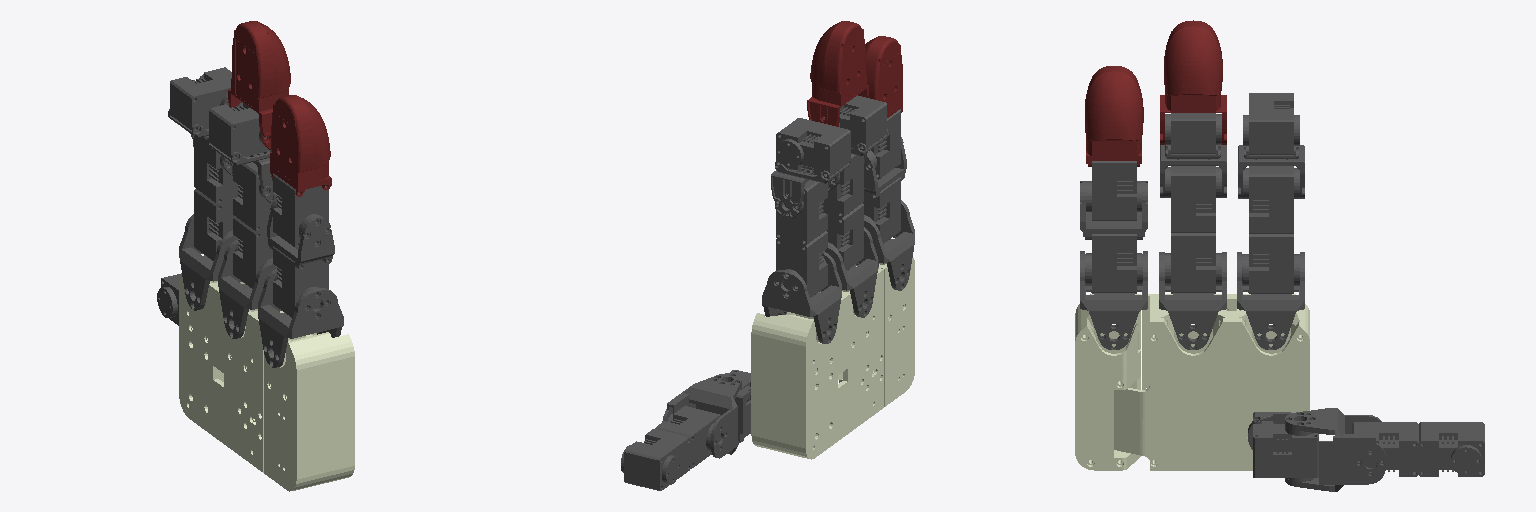
robot.urdf — gx4m:
<?xml version="1.0" encoding="utf-8"?>
<!-- This URDF was automatically created by SolidWorks to URDF Exporter! Originally created by Stephen Brawner (brawner@gmail.com) 
     Commit Version: 1.6.0-4-g7f85cfe  Build Version: 1.6.7995.38578
     For more information, please see http://wiki.ros.org/sw_urdf_exporter -->
<robot
  name="gx4m">
  <link
    name="base_link">
    <inertial>
      <origin
        xyz="-0.00153440405335238 0.0204382468703427 0.0367951456117559"
        rpy="0 0 0" />
      <mass
        value="0.0818018074556594" />
      <inertia
        ixx="0.000114084207970672"
        ixy="-2.10341508190003E-06"
        ixz="1.39209536319149E-06"
        iyy="6.12101513711208E-05"
        iyz="1.90786050719155E-06"
        izz="6.3128880941804E-05" />
    </inertial>
    <visual>
      <origin
        xyz="0 0 0"
        rpy="0 0 0" />
      <geometry>
        <mesh
          filename="../meshes/base_link.STL" />
      </geometry>
      <material
        name="gray">
        <color
          rgba="0.885 0.915 0.8 1" />
      </material>
    </visual>
    <collision>
      <origin
        xyz="0 0 0"
        rpy="0 0 0" />
      <geometry>
        <mesh
          filename="../meshes/base_link.STL" />
      </geometry>
    </collision>
  </link>
  <link
    name="plam_link" />
  <joint
    name="base_to_plam"
    type="fixed">
    <origin
      xyz="0. 0.0 0.0"
      rpy="1.57 0 1.57" />
    <parent
      link="base_link" />
    <child
      link="plam_link" />
  </joint>
  <link
    name="link1">
    <inertial>
      <origin
        xyz="0.0066997555855992 -0.00029707734467572 0.0157715034835529"
        rpy="0 0 0" />
      <mass
        value="0.0221845886807471" />
      <inertia
        ixx="1.75893076006865E-06"
        ixy="-9.18341864091065E-09"
        ixz="-6.4644354183328E-08"
        iyy="2.65182698275462E-06"
        iyz="1.75974720130724E-08"
        izz="3.2896829484082E-06" />
    </inertial>
    <visual>
      <origin
        xyz="0 0 0"
        rpy="0 0 0" />
      <geometry>
        <mesh
          filename="../meshes/link1.STL" />
      </geometry>
      <material
        name="gray">
        <color
          rgba="0.4 0.4 0.4 1" />
      </material>
    </visual>
    <collision>
      <origin
        xyz="0 0 0"
        rpy="0 0 0" />
      <geometry>
        <mesh
          filename="../meshes/link1.STL" />
      </geometry>
    </collision>
  </link>
  <joint
    name="joint1"
    type="revolute">
    <origin
      xyz="0.01525 0.040316 0.0202"
      rpy="1.5708 0 1.5708" />
    <parent
      link="base_link" />
    <child
      link="link1" />
    <axis
      xyz="0 0 1" />
    <limit
      lower="0"
      upper="1.57"
      effort="6"
      velocity="6" />
  </joint>
  <link
    name="link2">
    <inertial>
      <origin
        xyz="0.0179115845068282 0.00156014337581842 0.017229049195138"
        rpy="0 0 0" />
      <mass
        value="0.00726969492362233" />
      <inertia
        ixx="1.95118399965334E-06"
        ixy="5.56347572713684E-09"
        ixz="3.61427722386111E-08"
        iyy="1.8625109956516E-06"
        iyz="-1.38118146214014E-08"
        izz="1.64196249089385E-06" />
    </inertial>
    <visual>
      <origin
        xyz="0 0 0"
        rpy="0 0 0" />
      <geometry>
        <mesh
          filename="../meshes/link2.STL" />
      </geometry>
      <material
        name="gray">
        <color
          rgba="0.4 0.4 0.4 1" />
      </material>
    </visual>
    <collision>
      <origin
        xyz="0 0 0"
        rpy="0 0 0" />
      <geometry>
        <mesh
          filename="../meshes/link2.STL" />
      </geometry>
    </collision>
  </link>
  <joint
    name="joint2"
    type="revolute">
    <origin
      xyz="0.015 0.0175 0.02"
      rpy="1.5708 0 0" />
    <parent
      link="link1" />
    <child
      link="link2" />
    <axis
      xyz="0 0 1" />
    <limit
      lower="0"
      upper="2.1"
      effort="6"
      velocity="6" />
  </joint>
  <link
    name="link3">
    <inertial>
      <origin
        xyz="0.0245 -3.81639164714898E-17 -0.0170100523350374"
        rpy="0 0 0" />
      <mass
        value="0.0318397860116349" />
      <inertia
        ixx="2.63362247826917E-06"
        ixy="-1.41560414666517E-21"
        ixz="-2.81241408268029E-21"
        iyy="4.761229595298E-06"
        iyz="-1.41473845417061E-21"
        izz="4.05277731724929E-06" />
    </inertial>
    <visual>
      <origin
        xyz="0 0 0"
        rpy="0 0 0" />
      <geometry>
        <mesh
          filename="../meshes/link3.STL" />
      </geometry>
      <material
        name="gray">
        <color
          rgba="0.4 0.4 0.4 1" />
      </material>
    </visual>
    <collision>
      <origin
        xyz="0 0 0"
        rpy="0 0 0" />
      <geometry>
        <mesh
          filename="../meshes/link3.STL" />
      </geometry>
    </collision>
  </link>
  <joint
    name="joint3"
    type="revolute">
    <origin
      xyz="0.036 0.0165 0.0175"
      rpy="-1.5708 0 0" />
    <parent
      link="link2" />
    <child
      link="link3" />
    <axis
      xyz="0 0 1" />
    <limit
      lower="0"
      upper="1.57"
      effort="6"
      velocity="6" />
  </joint>
  <link
    name="link4">
    <inertial>
      <origin
        xyz="0.0331932699918128 0.00120000921448157 -0.0173091510596473"
        rpy="0 0 0" />
      <mass
        value="0.016387902192676" />
      <inertia
        ixx="1.67397373857767E-06"
        ixy="8.08318528720868E-08"
        ixz="-2.79692097132294E-09"
        iyy="2.6481586764993E-06"
        iyz="-1.90394065537757E-10"
        izz="1.49181880126737E-06" />
    </inertial>
    <visual>
      <origin
        xyz="0 0 0"
        rpy="0 0 0" />
      <geometry>
        <mesh
          filename="../meshes/link4.STL" />
      </geometry>
      <material
        name="red">
        <color
          rgba="0.5 0.2 0.2 1" />
      </material>
    </visual>
    <collision>
      <origin
        xyz="0 0 0"
        rpy="0 0 0" />
      <geometry>
        <mesh
          filename="../meshes/link4.STL" />
      </geometry>
    </collision>
  </link>
  <joint
    name="joint4"
    type="revolute">
    <origin
      xyz="0.049 0 0.0006"
      rpy="0 0 0" />
    <parent
      link="link3" />
    <child
      link="link4" />
    <axis
      xyz="0 0 1" />
    <limit
      lower="0"
      upper="1.57"
      effort="6"
      velocity="6" />
  </joint>
  <link
    name="link5">
    <inertial>
      <origin
        xyz="-1.47798440153224E-15 0.0165783539824644 -0.0174999999998945"
        rpy="0 0 0" />
      <mass
        value="0.00760225553216866" />
      <inertia
        ixx="1.74302925162853E-06"
        ixy="-1.22670925981893E-21"
        ixz="-2.52031592889091E-22"
        iyy="2.149096590646E-06"
        iyz="-1.70567098304039E-18"
        izz="1.65006176097987E-06" />
    </inertial>
    <visual>
      <origin
        xyz="0 0 0"
        rpy="0 0 0" />
      <geometry>
        <mesh
          filename="../meshes/link5.STL" />
      </geometry>
      <material
        name="gray">
        <color
          rgba="0.4 0.4 0.4 1" />
      </material>
    </visual>
    <collision>
      <origin
        xyz="0 0 0"
        rpy="0 0 0" />
      <geometry>
        <mesh
          filename="../meshes/link5.STL" />
      </geometry>
    </collision>
  </link>
  <joint
    name="joint5"
    type="revolute">
    <origin
      xyz="0.01425 0.040216 0.0745"
      rpy="1.5708 0 1.5708" />
    <parent
      link="base_link" />
    <child
      link="link5" />
    <axis
      xyz="0 0 -1" />
    <limit
      lower="-0.25"
      upper="0.25"
      effort="6"
      velocity="6" />
  </joint>
  <link
    name="link6">
    <inertial>
      <origin
        xyz="0.026005532403365 3.46944695195361E-17 -0.0195473220227265"
        rpy="0 0 0" />
      <mass
        value="0.0318397860116349" />
      <inertia
        ixx="2.63362247826917E-06"
        ixy="3.04789527147794E-22"
        ixz="3.07080964375579E-21"
        iyy="4.761229595298E-06"
        iyz="-2.38567529531903E-22"
        izz="4.05277731724929E-06" />
    </inertial>
    <visual>
      <origin
        xyz="0 0 0"
        rpy="0 0 0" />
      <geometry>
        <mesh
          filename="../meshes/link6.STL" />
      </geometry>
      <material
        name="gray">
        <color
          rgba="0.4 0.4 0.4 1" />
      </material>
    </visual>
    <collision>
      <origin
        xyz="0 0 0"
        rpy="0 0 0" />
      <geometry>
        <mesh
          filename="../meshes/link6.STL" />
      </geometry>
    </collision>
  </link>
  <joint
    name="joint6"
    type="revolute">
    <origin
      xyz="0.02 0.028 -0.0175"
      rpy="1.5708 0 1.5708" />
    <parent
      link="link5" />
    <child
      link="link6" />
    <axis
      xyz="0 0 1" />
    <limit
      lower="0"
      upper="1.57"
      effort="6"
      velocity="6" />
  </joint>
  <link
    name="link7">
    <inertial>
      <origin
        xyz="0.0282145159467919 -0.00608650480771861 -0.0238462603891481"
        rpy="0 0 0" />
      <mass
        value="0.0201335995475439" />
      <inertia
        ixx="3.23294735024172E-06"
        ixy="6.39217838619289E-15"
        ixz="-3.29770569627498E-16"
        iyy="2.02956034885754E-06"
        iyz="-1.17278782158689E-08"
        izz="2.42383950885394E-06" />
    </inertial>
    <visual>
      <origin
        xyz="0 0 0"
        rpy="0 0 0" />
      <geometry>
        <mesh
          filename="../meshes/link7.STL" />
      </geometry>
      <material
        name="gray">
        <color
          rgba="0.4 0.4 0.4 1" />
      </material>
    </visual>
    <collision>
      <origin
        xyz="0 0 0"
        rpy="0 0 0" />
      <geometry>
        <mesh
          filename="../meshes/link7.STL" />
      </geometry>
    </collision>
  </link>
  <joint
    name="joint7"
    type="revolute">
    <origin
      xyz="0.048857 0 0.0037437"
      rpy="0 0 0" />
    <parent
      link="link6" />
    <child
      link="link7" />
    <axis
      xyz="0 0 1" />
    <limit
      lower="0"
      upper="1.57"
      effort="6"
      velocity="6" />
  </joint>
  <link
    name="link8">
    <inertial>
      <origin
        xyz="0.0331932699918109 0.00120000921448189 -0.0173091510596482"
        rpy="0 0 0" />
      <mass
        value="0.0163879021926749" />
      <inertia
        ixx="1.6739737385777E-06"
        ixy="8.08318528720423E-08"
        ixz="-2.79692097121936E-09"
        iyy="2.64815867649921E-06"
        iyz="-1.90394065573125E-10"
        izz="1.49181880126722E-06" />
    </inertial>
    <visual>
      <origin
        xyz="0 0 0"
        rpy="0 0 0" />
      <geometry>
        <mesh
          filename="../meshes/link8.STL" />
      </geometry>
      <material
        name="red">
        <color
          rgba="0.5 0.2 0.2 1" />
      </material>
    </visual>
    <collision>
      <origin
        xyz="0 0 0"
        rpy="0 0 0" />
      <geometry>
        <mesh
          filename="../meshes/link8.STL" />
      </geometry>
    </collision>
  </link>
  <joint
    name="joint8"
    type="revolute">
    <origin
      xyz="0.031648 0 -0.0063011"
      rpy="0 0 0" />
    <parent
      link="link7" />
    <child
      link="link8" />
    <axis
      xyz="0 0 1" />
    <limit
      lower="0"
      upper="1.57"
      effort="6"
      velocity="6" />
  </joint>
  <link
    name="link9">
    <inertial>
      <origin
        xyz="-3.19189119579733E-16 0.0165783539824642 -0.0174999999998945"
        rpy="0 0 0" />
      <mass
        value="0.00760225553216863" />
      <inertia
        ixx="1.74302925162852E-06"
        ixy="-3.3775527886409E-21"
        ixz="-8.40105309342424E-23"
        iyy="2.14909659064599E-06"
        iyz="-1.70509942305582E-18"
        izz="1.65006176097987E-06" />
    </inertial>
    <visual>
      <origin
        xyz="0 0 0"
        rpy="0 0 0" />
      <geometry>
        <mesh
          filename="../meshes/link9.STL" />
      </geometry>
      <material
        name="gray">
        <color
          rgba="0.4 0.4 0.4 1" />
      </material>
    </visual>
    <collision>
      <origin
        xyz="0 0 0"
        rpy="0 0 0" />
      <geometry>
        <mesh
          filename="../meshes/link9.STL" />
      </geometry>
    </collision>
  </link>
  <joint
    name="joint9"
    type="revolute">
    <origin
      xyz="0.01425 0.0003162 0.0745"
      rpy="1.5708 0 1.5708" />
    <parent
      link="base_link" />
    <child
      link="link9" />
    <axis
      xyz="0 0 -1" />
    <limit
      lower="-0.25"
      upper="0.25"
      effort="6"
      velocity="6" />
  </joint>
  <link
    name="link10">
    <inertial>
      <origin
        xyz="0.0245000000000004 1.45716771982052E-16 -0.0178100523350378"
        rpy="0 0 0" />
      <mass
        value="0.0318397860116349" />
      <inertia
        ixx="2.63362247826917E-06"
        ixy="-3.65046700395299E-22"
        ixz="-3.57737359392566E-21"
        iyy="4.761229595298E-06"
        iyz="-3.16576765693066E-22"
        izz="4.05277731724929E-06" />
    </inertial>
    <visual>
      <origin
        xyz="0 0 0"
        rpy="0 0 0" />
      <geometry>
        <mesh
          filename="../meshes/link10.STL" />
      </geometry>
      <material
        name="gray">
        <color
          rgba="0.4 0.4 0.4 1" />
      </material>
    </visual>
    <collision>
      <origin
        xyz="0 0 0"
        rpy="0 0 0" />
      <geometry>
        <mesh
          filename="../meshes/link10.STL" />
      </geometry>
    </collision>
  </link>
  <joint
    name="joint10"
    type="revolute">
    <origin
      xyz="0.0175 0.03 -0.0175"
      rpy="1.5708 0 1.5708" />
    <parent
      link="link9" />
    <child
      link="link10" />
    <axis
      xyz="0 0 1" />
    <limit
      lower="0"
      upper="1.57"
      effort="6"
      velocity="6" />
  </joint>
  <link
    name="link11">
    <inertial>
      <origin
        xyz="0.0265661686115251 -0.00608650480771836 -0.0175451623207457"
        rpy="0 0 0" />
      <mass
        value="0.0201335995475439" />
      <inertia
        ixx="3.23294735024172E-06"
        ixy="6.39217646654776E-15"
        ixz="-3.29772908938269E-16"
        iyy="2.02956034885754E-06"
        iyz="-1.17278782158697E-08"
        izz="2.42383950885394E-06" />
    </inertial>
    <visual>
      <origin
        xyz="0 0 0"
        rpy="0 0 0" />
      <geometry>
        <mesh
          filename="../meshes/link11.STL" />
      </geometry>
      <material
        name="gray">
        <color
          rgba="0.4 0.4 0.4 1" />
      </material>
    </visual>
    <collision>
      <origin
        xyz="0 0 0"
        rpy="0 0 0" />
      <geometry>
        <mesh
          filename="../meshes/link11.STL" />
      </geometry>
    </collision>
  </link>
  <joint
    name="joint11"
    type="revolute">
    <origin
      xyz="0.049 0 -0.0002"
      rpy="0 0 0" />
    <parent
      link="link10" />
    <child
      link="link11" />
    <axis
      xyz="0 0 1" />
    <limit
      lower="0"
      upper="1.57"
      effort="6"
      velocity="6" />
  </joint>
  <link
    name="link12">
    <inertial>
      <origin
        xyz="0.0331932699917742 0.00120000921448071 -0.017309151059671"
        rpy="0 0 0" />
      <mass
        value="0.0163879021926291" />
      <inertia
        ixx="1.67397373857621E-06"
        ixy="8.08318528702869E-08"
        ixz="-2.79692096717179E-09"
        iyy="2.64815867649318E-06"
        iyz="-1.90394067046421E-10"
        izz="1.49181880126158E-06" />
    </inertial>
    <visual>
      <origin
        xyz="0 0 0"
        rpy="0 0 0" />
      <geometry>
        <mesh
          filename="../meshes/link12.STL" />
      </geometry>
      <material
        name="red">
        <color
          rgba="0.5 0.2 0.2 1" />
      </material>
    </visual>
    <collision>
      <origin
        xyz="0 0 0"
        rpy="0 0 0" />
      <geometry>
        <mesh
          filename="../meshes/link12.STL" />
      </geometry>
    </collision>
  </link>
  <joint
    name="joint12"
    type="revolute">
    <origin
      xyz="0.03 0 0"
      rpy="0 0 0" />
    <parent
      link="link11" />
    <child
      link="link12" />
    <axis
      xyz="0 0 1" />
    <limit
      lower="0"
      upper="1.57"
      effort="6"
      velocity="6" />
  </joint>
  <link
    name="link13">
    <inertial>
      <origin
        xyz="0.0238883735922244 -0.00110660149279515 -0.00391256501422189"
        rpy="0 0 0" />
      <mass
        value="0.0312564718984817" />
      <inertia
        ixx="2.27794444218755E-05"
        ixy="-6.97892177127566E-07"
        ixz="-3.19326578448207E-07"
        iyy="2.4320308680919E-05"
        iyz="2.23781123044989E-07"
        izz="5.63765548393032E-06" />
    </inertial>
    <visual>
      <origin
        xyz="0 0 0"
        rpy="0 0 0" />
      <geometry>
        <mesh
          filename="../meshes/link13.STL" />
      </geometry>
      <material
        name="gray">
        <color
          rgba="0.885 0.915 0.8 1" />
      </material>
    </visual>
    <collision>
      <origin
        xyz="0 0 0"
        rpy="0 0 0" />
      <geometry>
        <mesh
          filename="../meshes/link13.STL" />
      </geometry>
    </collision>
  </link>
  <joint
    name="joint13"
    type="revolute">
    <origin
      xyz="-0.00125 -0.022916 0.042827"
      rpy="0 0 -1.5708" />
    <parent
      link="base_link" />
    <child
      link="link13" />
    <axis
      xyz="0 0 1" />
    <limit
      lower="0.0"
      upper="0.6"
      effort="6"
      velocity="6" />
  </joint>
  <link
    name="link14">
    <inertial>
      <origin
        xyz="-2.42861286636753E-17 0.0165783539824643 -0.0174999999998946"
        rpy="0 0 0" />
      <mass
        value="0.00760225553216864" />
      <inertia
        ixx="1.74302925162852E-06"
        ixy="-6.40372309789433E-22"
        ixz="-3.37253814288381E-23"
        iyy="2.14909659064599E-06"
        iyz="-1.70465686043282E-18"
        izz="1.65006176097987E-06" />
    </inertial>
    <visual>
      <origin
        xyz="0 0 0"
        rpy="0 0 0" />
      <geometry>
        <mesh
          filename="../meshes/link14.STL" />
      </geometry>
      <material
        name="gray">
        <color
          rgba="0.4 0.4 0.4 1" />
      </material>
    </visual>
    <collision>
      <origin
        xyz="0 0 0"
        rpy="0 0 0" />
      <geometry>
        <mesh
          filename="../meshes/link14.STL" />
      </geometry>
    </collision>
  </link>
  <joint
    name="joint14"
    type="revolute">
    <origin
      xyz="0.0174 0.0155 0.031686"
      rpy="1.5708 0 3.1416" />
    <parent
      link="link13" />
    <child
      link="link14" />
    <axis
      xyz="0 0 -1" />
    <limit
      lower="-0.25"
      upper="0.25"
      effort="6"
      velocity="6" />
  </joint>
  <link
    name="link15">
    <inertial>
      <origin
        xyz="0.0117628085789517 3.59295866843301E-07 -0.0177625717292357"
        rpy="0 0 0" />
      <mass
        value="0.0199876337854511" />
      <inertia
        ixx="2.14514551541092E-06"
        ixy="7.43688848953817E-12"
        ixz="1.03329953755503E-08"
        iyy="3.26871024245982E-06"
        iyz="-6.81380737062534E-14"
        izz="2.33955813011769E-06" />
    </inertial>
    <visual>
      <origin
        xyz="0 0 0"
        rpy="0 0 0" />
      <geometry>
        <mesh
          filename="../meshes/link15.STL" />
      </geometry>
      <material
        name="gray">
        <color
          rgba="0.4 0.4 0.4 1" />
      </material>
    </visual>
    <collision>
      <origin
        xyz="0 0 0"
        rpy="0 0 0" />
      <geometry>
        <mesh
          filename="../meshes/link15.STL" />
      </geometry>
    </collision>
  </link>
  <joint
    name="joint15"
    type="revolute">
    <origin
      xyz="0.0175 0.03 -0.0175"
      rpy="1.5708 0 1.5708" />
    <parent
      link="link14" />
    <child
      link="link15" />
    <axis
      xyz="0 0 1" />
    <limit
      lower="0"
      upper="1.57"
      effort="6"
      velocity="6" />
  </joint>
  <link
    name="link16">
    <inertial>
      <origin
        xyz="0.0268610359741967 0.000610769758179315 -0.0176576980963586"
        rpy="0 0 0" />
      <mass
        value="0.0321771179163385" />
      <inertia
        ixx="2.75960367328153E-06"
        ixy="8.17785651533107E-08"
        ixz="8.95758519187493E-09"
        iyy="4.63594955694168E-06"
        iyz="-2.21752900116192E-10"
        izz="3.36377095579654E-06" />
    </inertial>
    <visual>
      <origin
        xyz="0 0 0"
        rpy="0 0 0" />
      <geometry>
        <mesh
          filename="../meshes/link16.STL" />
      </geometry>
      <material
        name="red">
        <color
          rgba="0.4 0.4 0.4 1" />
      </material>
    </visual>
    <collision>
      <origin
        xyz="0 0 0"
        rpy="0 0 0" />
      <geometry>
        <mesh
          filename="../meshes/link16.STL" />
      </geometry>
    </collision>
  </link>
  <joint
    name="joint16"
    type="revolute">
    <origin
      xyz="0.041 0 0"
      rpy="0 0 0" />
    <parent
      link="link15" />
    <child
      link="link16" />
    <axis
      xyz="0 0 1" />
    <limit
      lower="0"
      upper="1.57"
      effort="6"
      velocity="6" />
  </joint>
  <link
    name="link17">
    <inertial>
      <origin
        xyz="0.0464333373456552 0.00120886625098581 -0.0175085051564728"
        rpy="0 0 0" />
      <mass
        value="0.0162572249105206" />
      <inertia
        ixx="1.44279243414689E-06"
        ixy="8.17785651533141E-08"
        ixz="-2.77029847111908E-09"
        iyy="2.25533475929257E-06"
        iyz="-2.21752900267788E-10"
        izz="1.33738229717186E-06" />
    </inertial>
    <visual>
      <origin
        xyz="0 0 0"
        rpy="0 0 0" />
      <geometry>
        <mesh
          filename="../meshes/link17.STL" />
      </geometry>
      <material
        name="">
        <color
          rgba="0.5 0.2 0.2 1" />
      </material>
    </visual>
    <collision>
      <origin
        xyz="0 0 0"
        rpy="0 0 0" />
      <geometry>
        <mesh
          filename="../meshes/link17.STL" />
      </geometry>
    </collision>
  </link>
  <joint
    name="joint17"
    type="fixed">
    <origin
      xyz="0 0 0"
      rpy="0 0 0" />
    <parent
      link="link16" />
    <child
      link="link17" />
    <axis
      xyz="0 0 0" />
  </joint>
  <link
    name="link18" />
  <joint
    name="joint18"
    type="fixed">
    <origin
      xyz="0.05 0 -0.02"
      rpy="0 1.57 0" />
    <parent
      link="link4" />
    <child
      link="link18" />
  </joint>
  <link
    name="link19" />
  <joint
    name="joint19"
    type="fixed">
    <origin
      xyz="0.05 0 -0.02"
      rpy="1.57 -1.57 1.57" />
    <parent
      link="link8" />
    <child
      link="link19" />
  </joint>
  <link
    name="link20" />
  <joint
    name="joint20"
    type="fixed">
    <origin
      xyz="0.05 0 -0.02"
      rpy="1.57 -1.57 1.57" />
    <parent
      link="link12" />
    <child
      link="link20" />
  </joint>
  <link
    name="link21" />
  <joint
    name="joint21"
    type="fixed">
    <origin
      xyz="0.06 0 -0.02"
      rpy="1.57 -1.57 1.57" />
    <parent
      link="link17" />
    <child
      link="link21" />
  </joint>
</robot>

--- Render facts (derived) ---
3 views of the same robot in one strip: view 1: azimuth 30°, elevation 25°; view 2: azimuth 150°, elevation 25°; view 3: azimuth 270°, elevation 25° (orthographic).
Model gx4m with 23 links and 22 joints (16 revolute, 6 fixed), rooted at base_link, posed all joints at 0.
Links seen in each view (by area): view 1: link13, base_link, link12, link17, link15, link14, link6, link10, link11, link7, link16, link9 (+2 smaller); view 2: base_link, link7, link3, link12, link6, link13, link5, link10, link2, link15, link17, link11 (+4 smaller); view 3: base_link, link13, link6, link10, link3, link12, link17, link2, link15, link7, link1, link11 (+4 smaller).
Boxes of the visible links, x1,y1,x2,y2 form: link13: [264, 332, 354, 491]; base_link: [179, 275, 316, 472]; link12: [228, 21, 290, 149]; link17: [270, 95, 331, 196]; link15: [267, 197, 334, 317]; link14: [258, 269, 343, 367]; link6: [194, 136, 239, 260]; link10: [233, 162, 274, 288]; link11: [207, 102, 276, 202]; link7: [168, 67, 232, 175]; link16: [273, 174, 328, 248]; link9: [218, 240, 277, 338]; base_link: [751, 266, 883, 459]; link7: [771, 118, 852, 218]; link3: [621, 406, 721, 490]; link12: [807, 21, 868, 126]; link6: [776, 180, 827, 297]; link13: [839, 258, 914, 406]; link5: [762, 251, 841, 343]; link10: [822, 154, 863, 270]; link2: [662, 373, 741, 458]; link15: [863, 137, 906, 243]; link17: [865, 36, 902, 117]; link11: [823, 95, 888, 190]; base_link: [1114, 294, 1309, 470]; link13: [1075, 294, 1140, 470]; link6: [1243, 166, 1299, 293]; link10: [1165, 166, 1221, 292]; link3: [1352, 422, 1484, 476]; link12: [1160, 20, 1226, 144]; link17: [1085, 66, 1143, 166]; link2: [1285, 408, 1385, 491]; link15: [1080, 181, 1147, 292]; link7: [1238, 93, 1304, 198]; link1: [1248, 412, 1318, 481]; link11: [1160, 113, 1226, 197].
Bounding box of the posed robot: 0.0795 × 0.2101 × 0.2413 m (x, y, z).
Meshes: 18 distinct files referenced, 16 mesh visuals loaded (16 binary STL); not drawn: 2 (reference not matched to a file when rendering).
